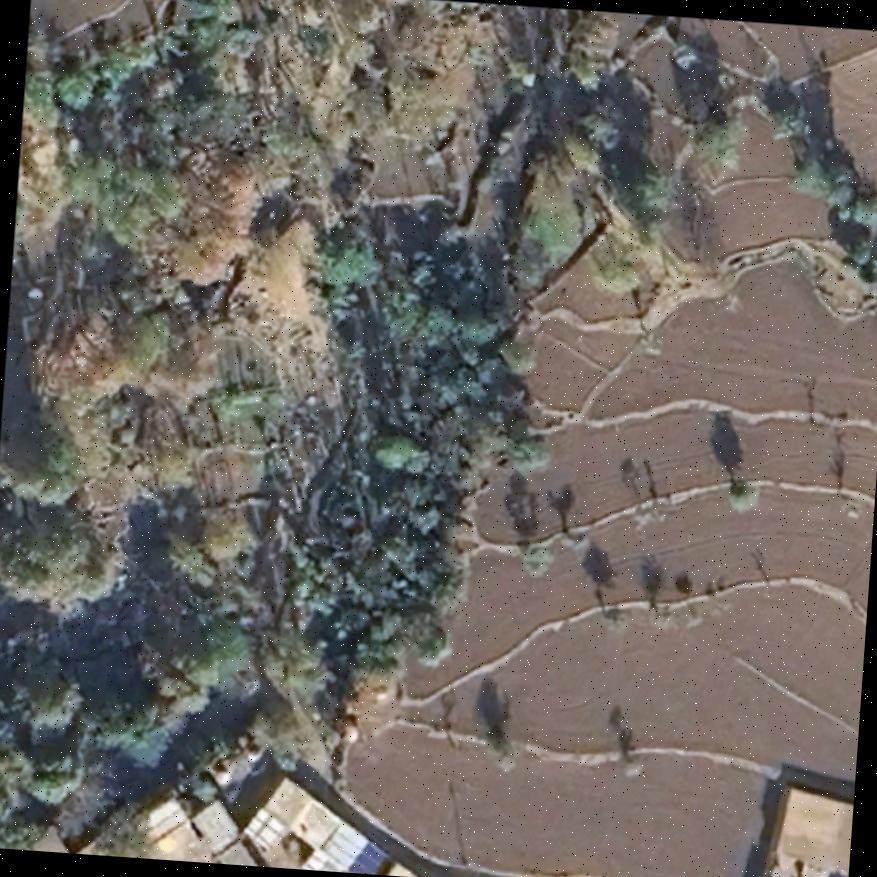Solarpanel: (343, 841, 388, 872)
